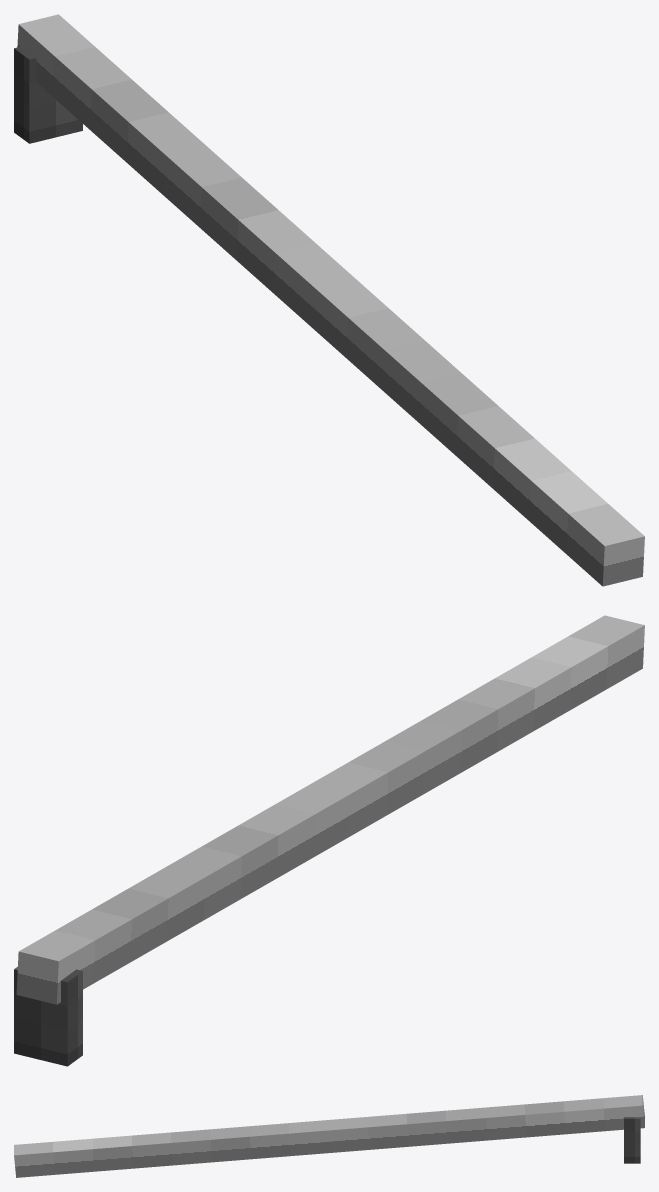
Rendered from contact_wire_holder_simple_outer.obj.
3 renders of one model, top to bottom at view 1: azimuth 30°, elevation 25°; view 2: azimuth 150°, elevation 25°; view 3: azimuth 270°, elevation 25°, orthographic. The views are drawn at different scales.
Parts seen in each view (by area): view 1: p33, p32; view 2: p33, p32; view 3: p33, p32.
Part boxes in pixels (box(x1,y1,x2,y2)): p33: box(17, 14, 644, 586); p32: box(14, 46, 82, 143); p33: box(16, 615, 644, 1004); p32: box(14, 966, 82, 1066); p33: box(14, 1095, 644, 1177); p32: box(624, 1117, 640, 1163).
Bounding box in the file's own units: 0.0625 × 0.1502 × 1.19.
